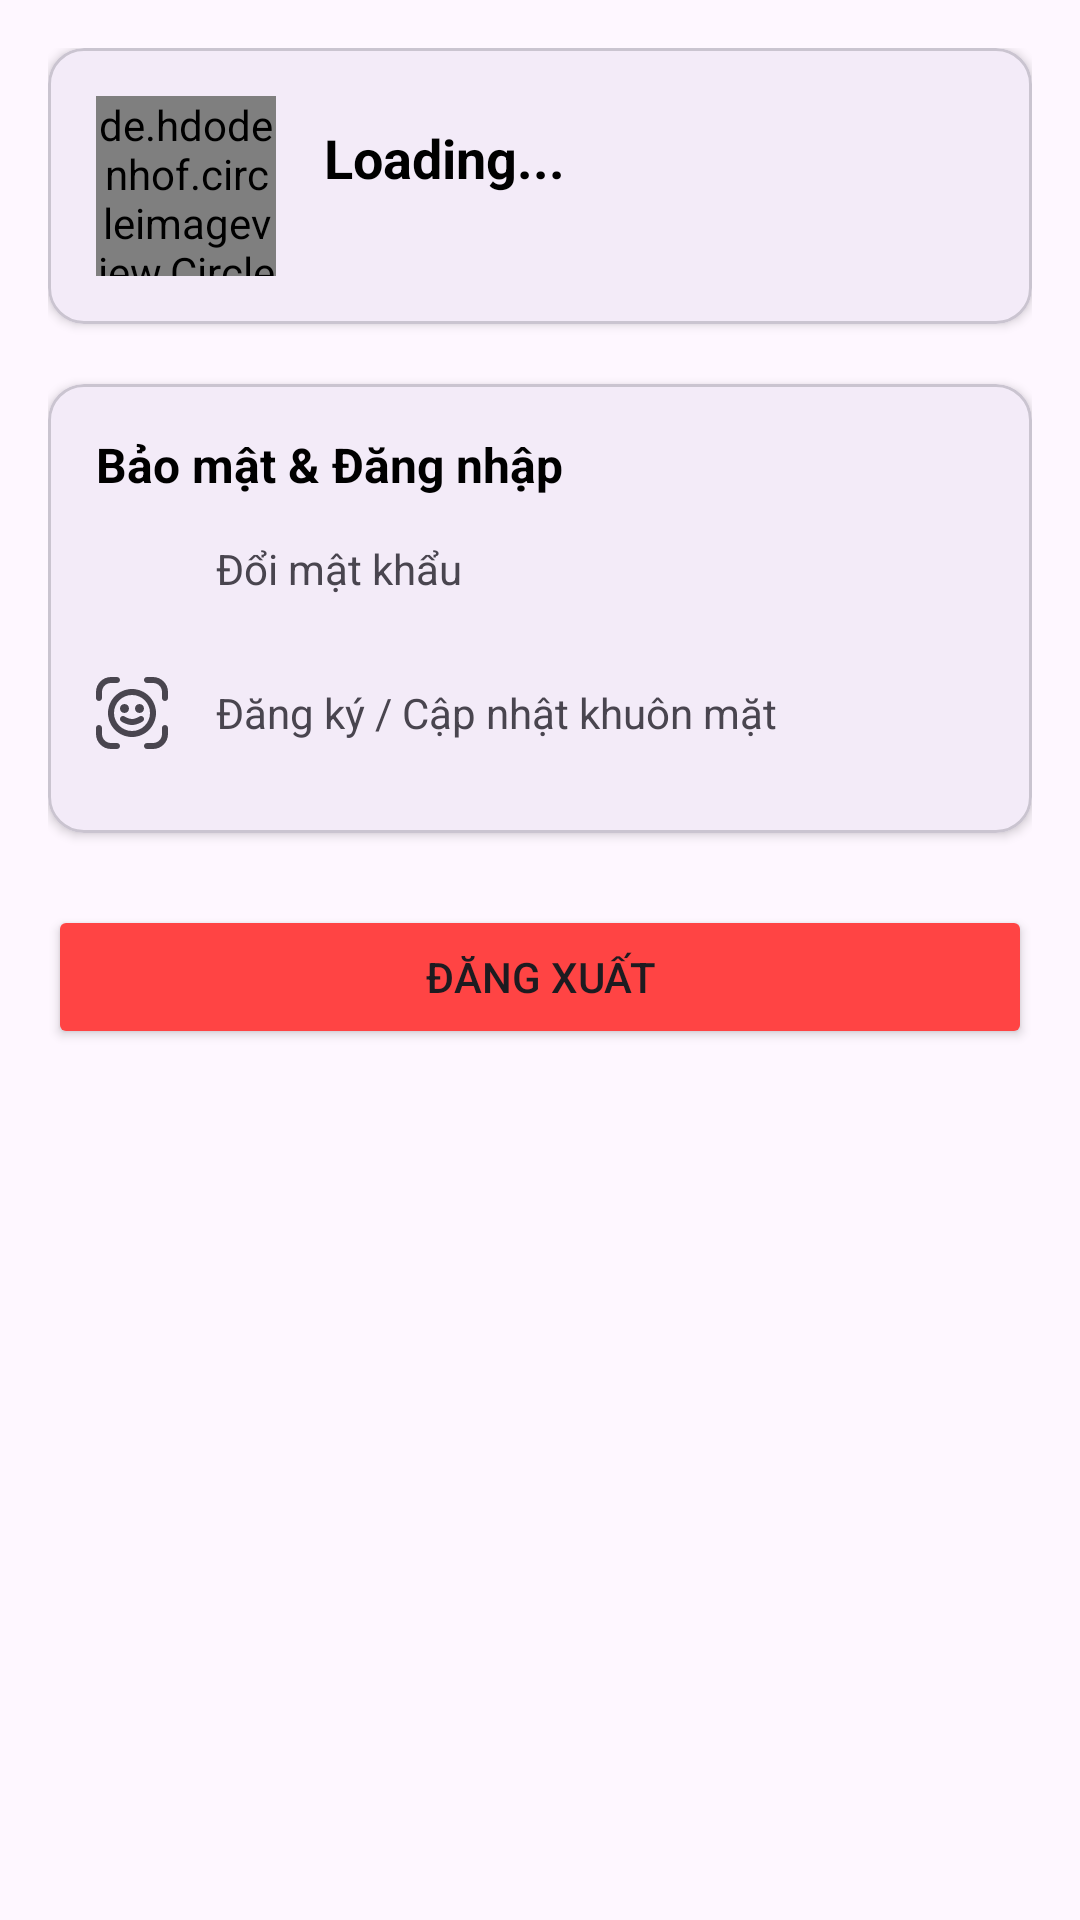

Screen size 1080px×1920px. Icon name, then its center in pixels as (x=x, y=y):
faceid: (x=132, y=713)
